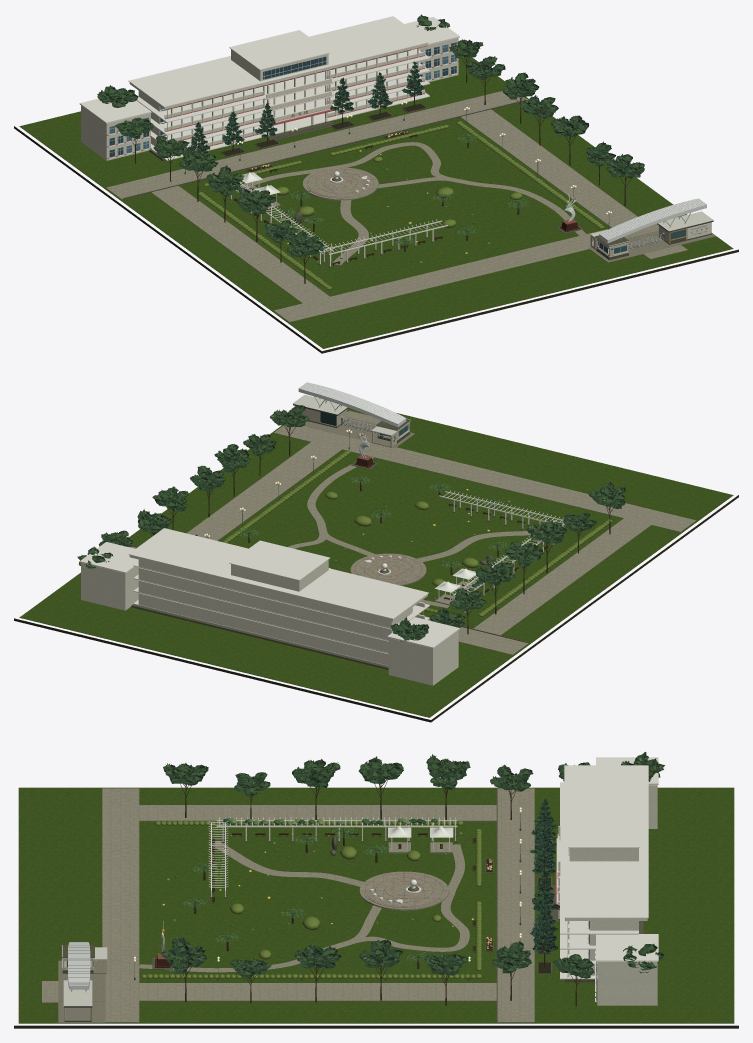
The model's file is lingchuan-courtyard.glb.
3 renders of one model, top to bottom at view 1: azimuth 30°, elevation 25°; view 2: azimuth 150°, elevation 25°; view 3: azimuth 270°, elevation 25°, orthographic. The views are drawn at different scales.
Parts seen in each view (by area): view 1: Garden_paths_garden_grass, Garden_paths_concrete_paving, Main_building_2015_photo_plaster, Garden_planting, Main_building_2015_photo_aged_ceramic, Garden_planting_clipped_hedge, Garden_paths_earth, Main_building_2015_photo_red_horizontal_trim, Garden_pergola_plaster, Gate_historic_gate_ivory_metal_panels, Garden_planting_tree_bark, Main_building_2015_photo_aluminium_frames (+6 smaller); view 2: Garden_paths_garden_grass, Garden_paths_concrete_paving, Main_building_2015_photo_aged_ceramic, Main_building_2015_photo_plaster, Garden_planting, Garden_planting_clipped_hedge, Garden_paths_earth, Gate_historic_gate_ivory_metal_panels, Garden_pergola_plaster, Main_building_2015_photo_weathered_stone, Gate_historic_gate_apron_concrete, Garden_planting_tree_bark (+1 smaller); view 3: Garden_paths_garden_grass, Garden_paths_concrete_paving, Main_building_2015_photo_plaster, Garden_planting, Main_building_2015_photo_aged_ceramic, Garden_planting_clipped_hedge, Garden_paths_earth, Garden_pergola_plaster, Garden_planting_tree_bark, Gate_historic_gate_apron_concrete, Gate_historic_gate_ivory_metal_panels, Gate_historic_gate_cut_stone_edges (+4 smaller).
Boxes of the visible parts, x1=… form: Garden_paths_garden_grass: x1=19, y1=57, x2=733, y2=348; Garden_paths_concrete_paving: x1=106, y1=91, x2=687, y2=322; Main_building_2015_photo_plaster: x1=79, y1=16, x2=459, y2=160; Garden_planting: x1=97, y1=14, x2=644, y2=256; Main_building_2015_photo_aged_ceramic: x1=81, y1=38, x2=458, y2=160; Garden_planting_clipped_hedge: x1=198, y1=121, x2=604, y2=289; Garden_paths_earth: x1=14, y1=126, x2=738, y2=353; Main_building_2015_photo_red_horizontal_trim: x1=106, y1=45, x2=459, y2=159; Garden_pergola_plaster: x1=230, y1=181, x2=447, y2=266; Gate_historic_gate_ivory_metal_panels: x1=599, y1=198, x2=706, y2=243; Garden_planting_tree_bark: x1=119, y1=55, x2=631, y2=283; Main_building_2015_photo_aluminium_frames: x1=109, y1=42, x2=456, y2=157; Garden_paths_garden_grass: x1=19, y1=398, x2=733, y2=717; Garden_paths_concrete_paving: x1=129, y1=410, x2=696, y2=654; Main_building_2015_photo_aged_ceramic: x1=81, y1=555, x2=458, y2=685; Main_building_2015_photo_plaster: x1=79, y1=528, x2=459, y2=666; Garden_planting: x1=77, y1=405, x2=626, y2=641; Garden_planting_clipped_hedge: x1=222, y1=450, x2=612, y2=616; Garden_paths_earth: x1=14, y1=495, x2=738, y2=722; Gate_historic_gate_ivory_metal_panels: x1=298, y1=382, x2=406, y2=427; Garden_pergola_plaster: x1=439, y1=490, x2=564, y2=609; Main_building_2015_photo_weathered_stone: x1=131, y1=604, x2=388, y2=669; Gate_historic_gate_apron_concrete: x1=304, y1=417, x2=414, y2=448; Garden_planting_tree_bark: x1=115, y1=413, x2=614, y2=634; Garden_paths_garden_grass: x1=18, y1=787, x2=734, y2=1023; Garden_paths_concrete_paving: x1=42, y1=788, x2=534, y2=1022; Main_building_2015_photo_plaster: x1=556, y1=757, x2=658, y2=1001; Garden_planting: x1=160, y1=752, x2=664, y2=978; Main_building_2015_photo_aged_ceramic: x1=558, y1=785, x2=657, y2=1005; Garden_planting_clipped_hedge: x1=141, y1=820, x2=481, y2=978; Garden_paths_earth: x1=14, y1=1025, x2=738, y2=1028; Garden_pergola_plaster: x1=208, y1=817, x2=457, y2=896; Garden_planting_tree_bark: x1=179, y1=763, x2=583, y2=1006; Gate_historic_gate_apron_concrete: x1=58, y1=960, x2=106, y2=1022; Gate_historic_gate_ivory_metal_panels: x1=68, y1=942, x2=90, y2=989; Gate_historic_gate_cut_stone_edges: x1=61, y1=945, x2=107, y2=1019.
Bounding box in the file's own units: 122 × 19.43 × 156.
60 materials, 16 textured.
